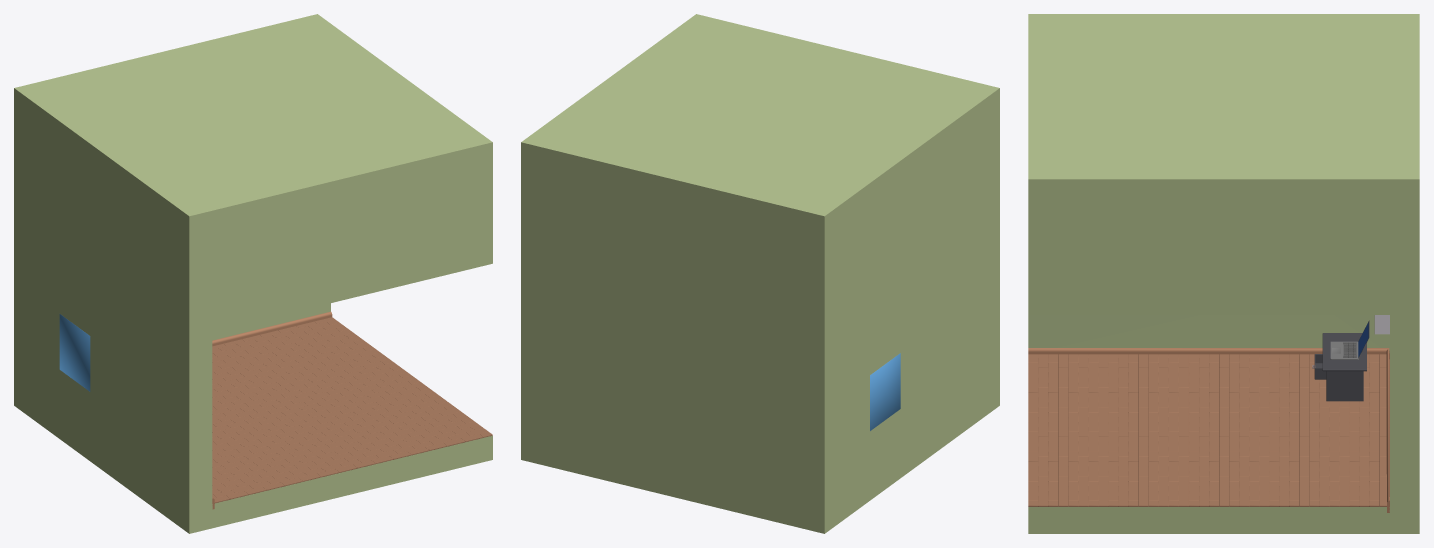
Rendered from room_v4.glb.
3 renders of one model, left to right at view 1: azimuth 30°, elevation 25°; view 2: azimuth 150°, elevation 25°; view 3: azimuth 270°, elevation 25°, orthographic. The views are drawn at different scales.
Visible parts, largest first — view 1: walls, floor_big, window, floor_trim; view 2: walls, window; view 3: walls, floor_big, floor_trim, Plane.006.
Part boxes in pixels (x1,y1,x2,y2): walls: [14, 14, 492, 533]; floor_big: [212, 317, 492, 503]; window: [59, 314, 90, 391]; floor_trim: [212, 311, 332, 509]; walls: [521, 14, 999, 533]; window: [870, 353, 900, 430]; walls: [1028, 14, 1419, 533]; floor_big: [1028, 353, 1389, 506]; floor_trim: [1028, 348, 1389, 512]; Plane.006: [1314, 333, 1366, 401].
Size of the model in its own units: 7.97 by 7.97 by 7.97.
